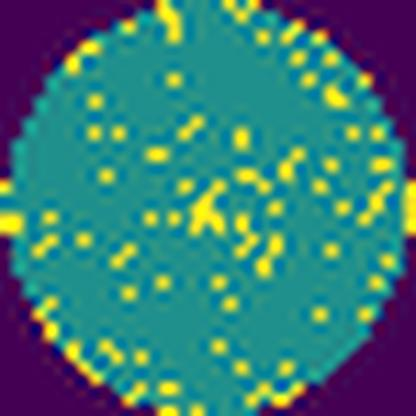Center: (187, 181, 231, 238)
